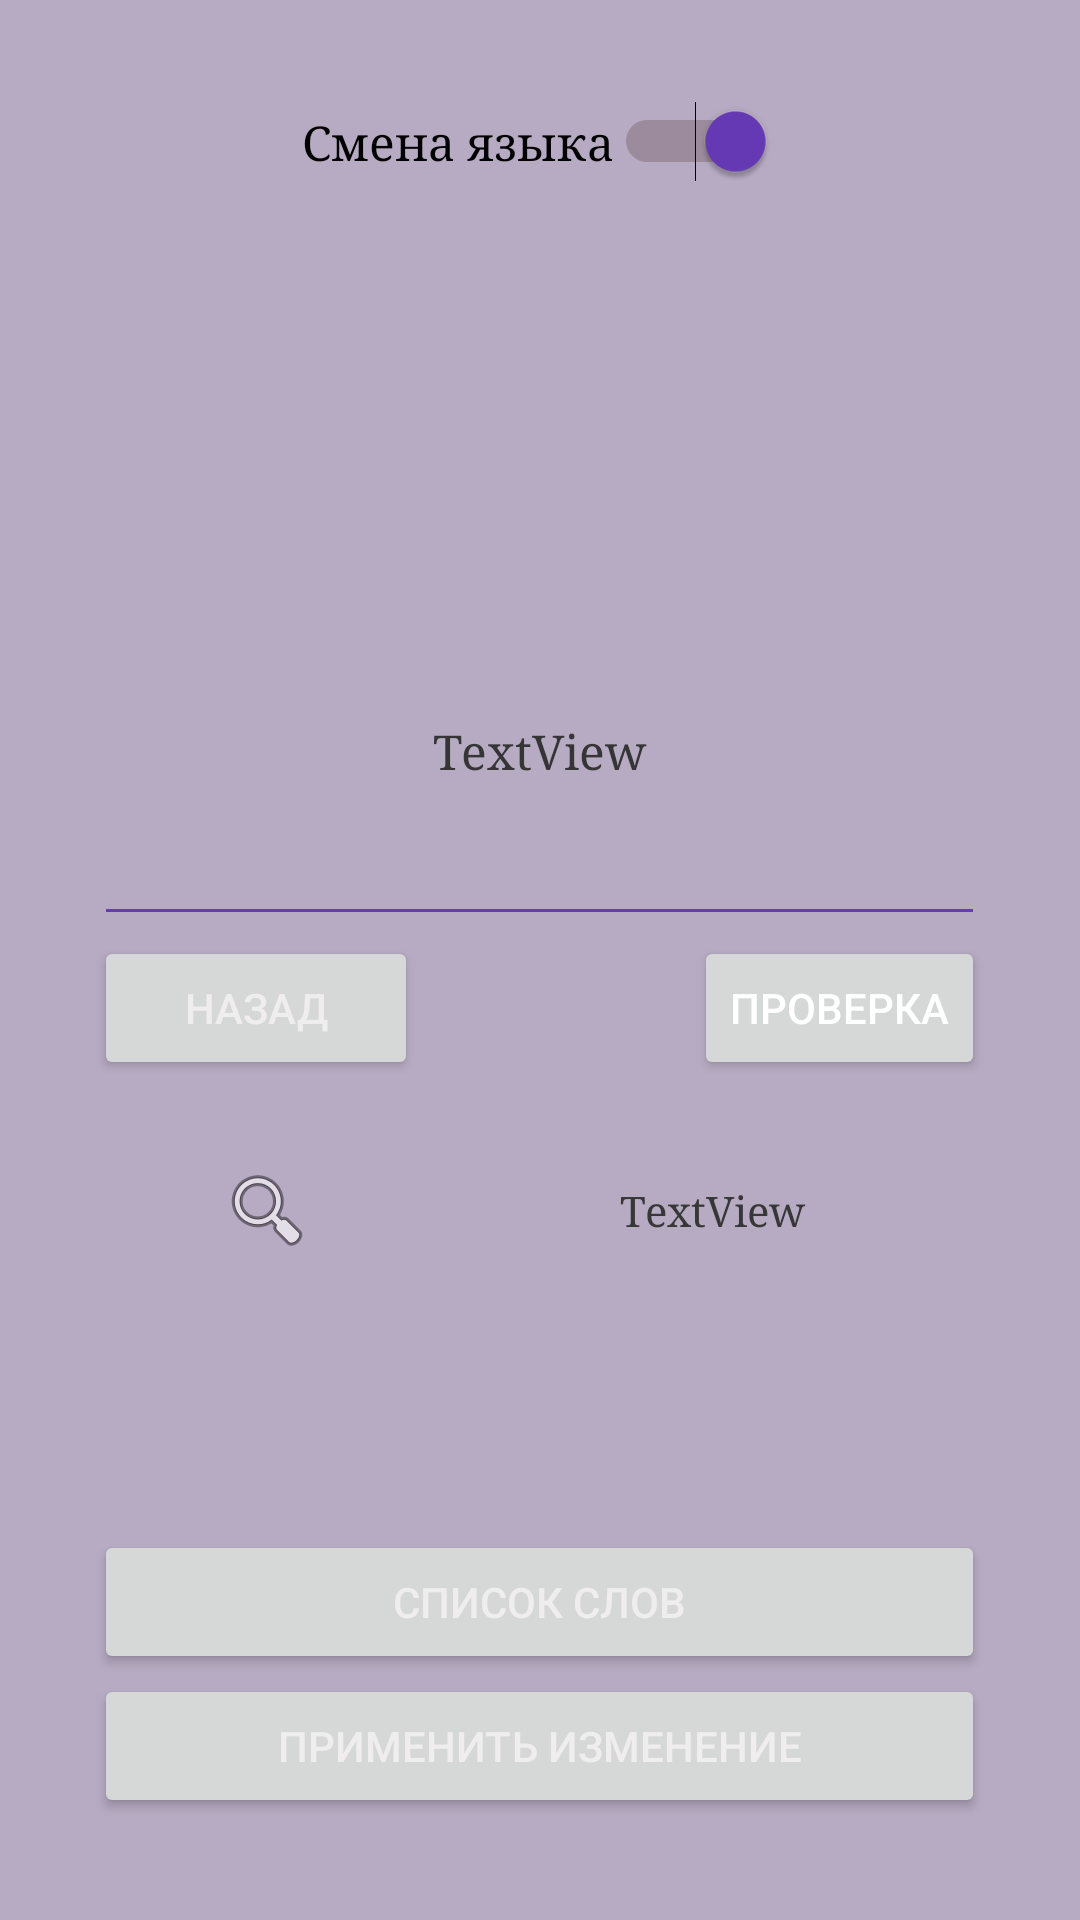

Where to tap for icons on this 1080*1920 app screen, as (x,y):
search: (267,1210)
